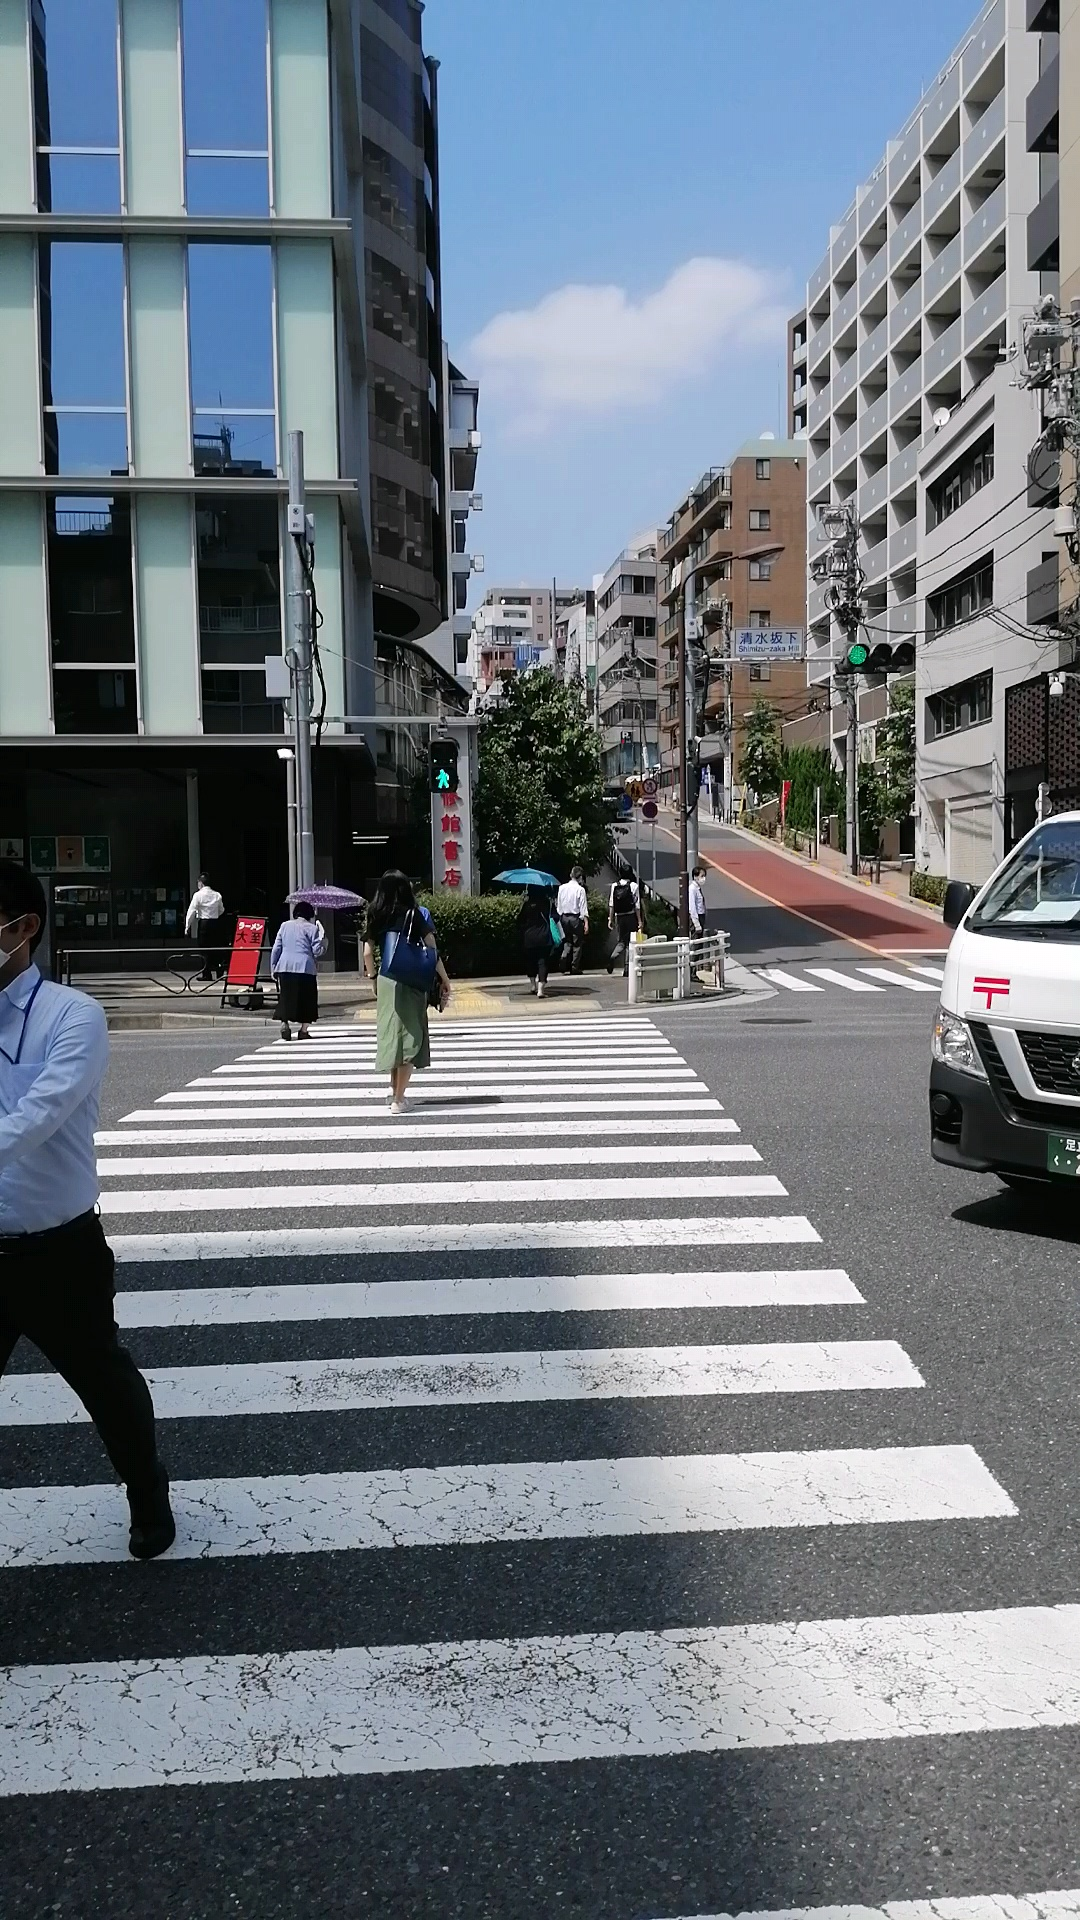green: (427, 738, 459, 793)
